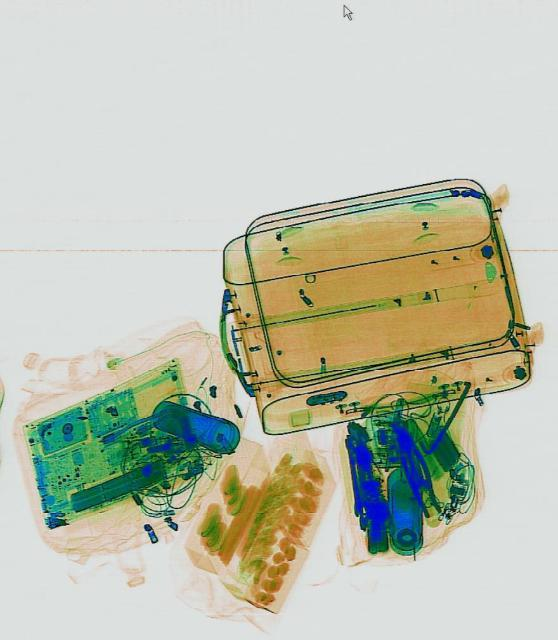Pliers: (388, 428, 443, 522)
